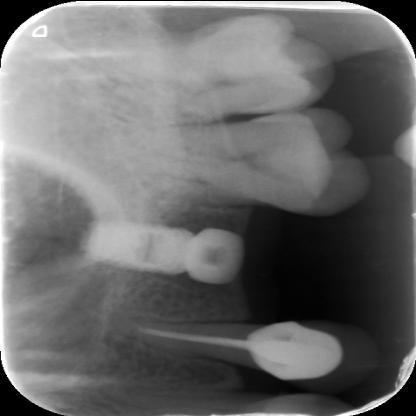Bicon: (81, 218, 237, 287)
